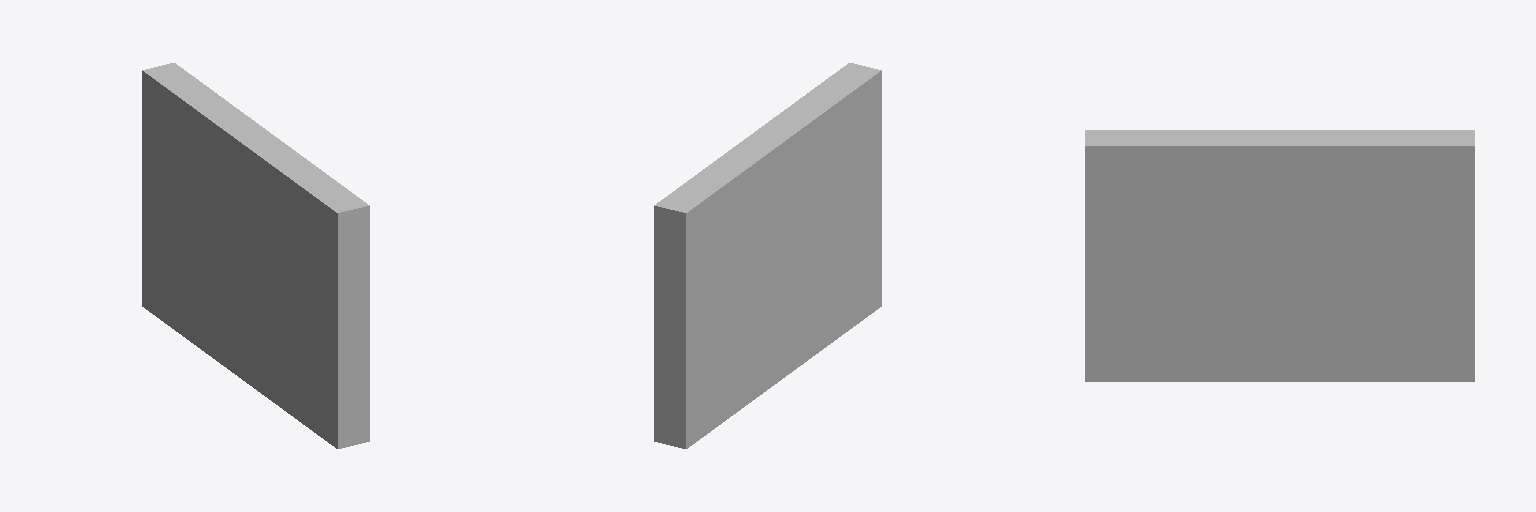
Rendered from House Interior Rooms - Free Sample-11.obj.
The picture shows the model from 3 angles: view 1: azimuth 30°, elevation 25°; view 2: azimuth 150°, elevation 25°; view 3: azimuth 270°, elevation 25°; orthographic projection.
Visible parts, largest first — view 1: object 1; view 2: object 1; view 3: object 1.
Boxes of the visible parts, x1=… form: object 1: x1=142, y1=63, x2=369, y2=448; object 1: x1=654, y1=63, x2=881, y2=448; object 1: x1=1085, y1=130, x2=1474, y2=381.
Bounding box in the file's own units: 0.04 × 0.28 × 0.42.